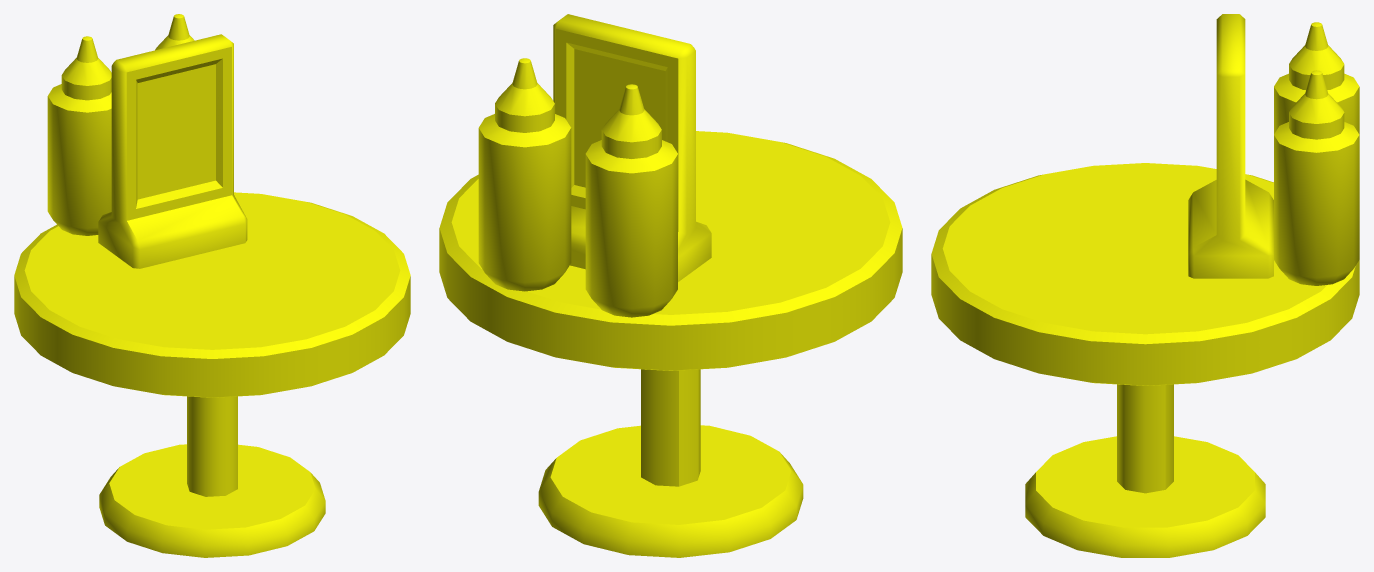
Rendered from kaykit-table-round-a-small-decorated.glb.
3 views of the same model, side by side, from view 1: azimuth 30°, elevation 25°; view 2: azimuth 150°, elevation 25°; view 3: azimuth 270°, elevation 25° (orthographic). The views are drawn at different scales.
Parts seen in each view (by area): view 1: table_round_A_small_decorated; view 2: table_round_A_small_decorated; view 3: table_round_A_small_decorated.
Part boxes in pixels (<box>): table_round_A_small_decorated: <box>14,14,410,557</box>; table_round_A_small_decorated: <box>439,14,902,557</box>; table_round_A_small_decorated: <box>931,14,1359,557</box>.
Size of the model in its own units: 1.5 by 1.8 by 1.5.
